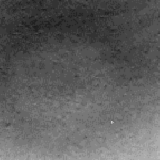Target: (108, 120, 115, 125)
